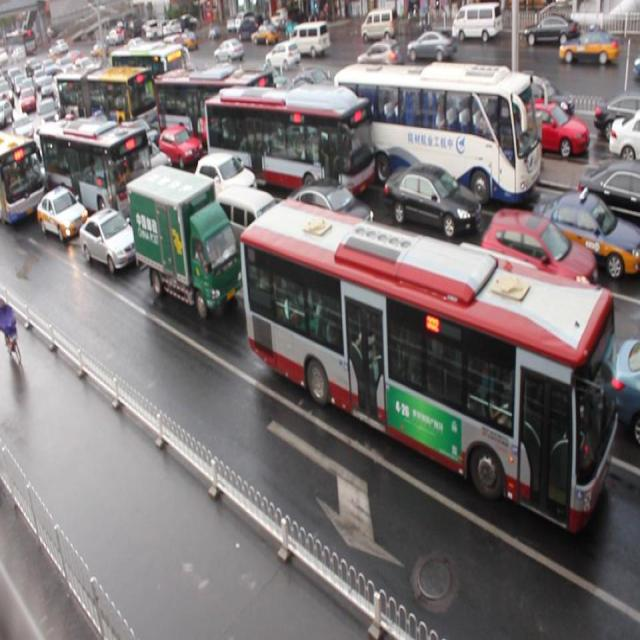bus: (127, 163, 239, 318)
car: (481, 206, 596, 302), (527, 191, 640, 278), (300, 228, 404, 321), (382, 162, 481, 238), (285, 177, 373, 248), (576, 160, 640, 238), (141, 185, 208, 250), (192, 149, 256, 211), (80, 206, 138, 272), (38, 181, 89, 240), (118, 134, 171, 186), (158, 124, 202, 169), (116, 123, 160, 164)
truck: (440, 240, 568, 386), (216, 186, 292, 276)
van: (243, 196, 612, 531), (334, 66, 541, 204), (206, 84, 375, 204), (38, 121, 156, 232), (154, 70, 274, 160), (58, 71, 158, 132), (1, 129, 46, 224)
